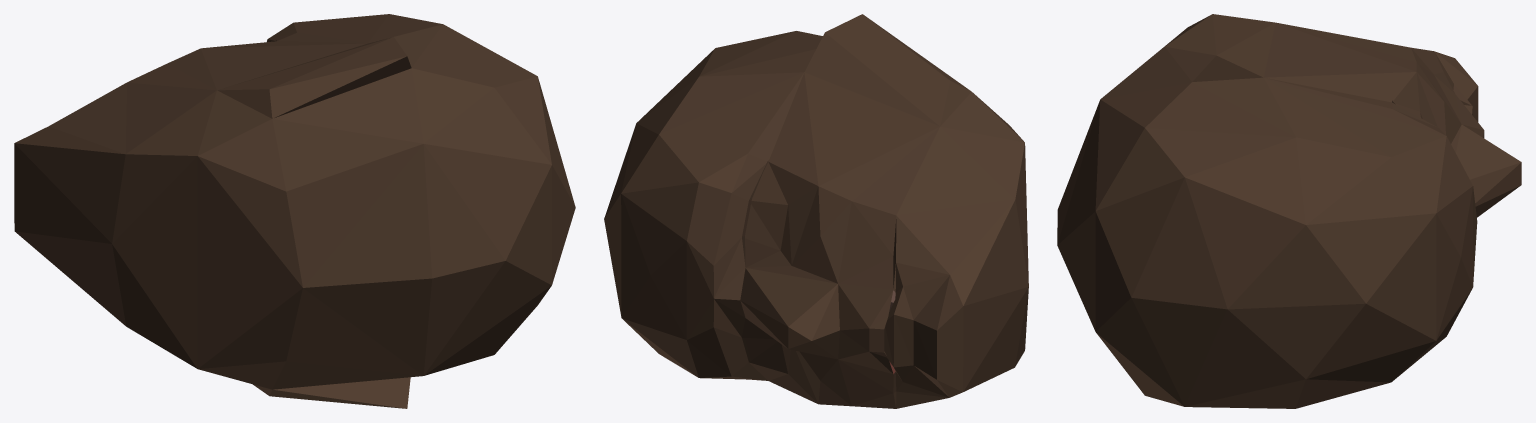
File: HUM_HEAD_BALD.OBJ
3 renders of one model, left to right at view 1: azimuth 30°, elevation 25°; view 2: azimuth 150°, elevation 25°; view 3: azimuth 270°, elevation 25°, orthographic. The views are drawn at different scales.
Visible parts, largest first — view 1: HUM_HEAD_BALD; view 2: HUM_HEAD_BALD; view 3: HUM_HEAD_BALD.
Boxes of the visible parts, x1,y1,x2,y2 form: HUM_HEAD_BALD: [14, 14, 575, 408]; HUM_HEAD_BALD: [604, 14, 1028, 408]; HUM_HEAD_BALD: [1057, 14, 1521, 408].
Bounding box in the file's own units: 0.2478 × 0.1971 × 0.2346.
